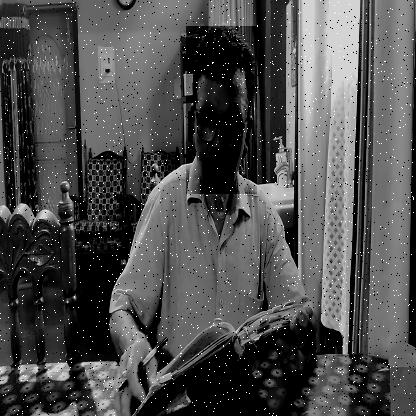Normal: (186, 26, 257, 194)
